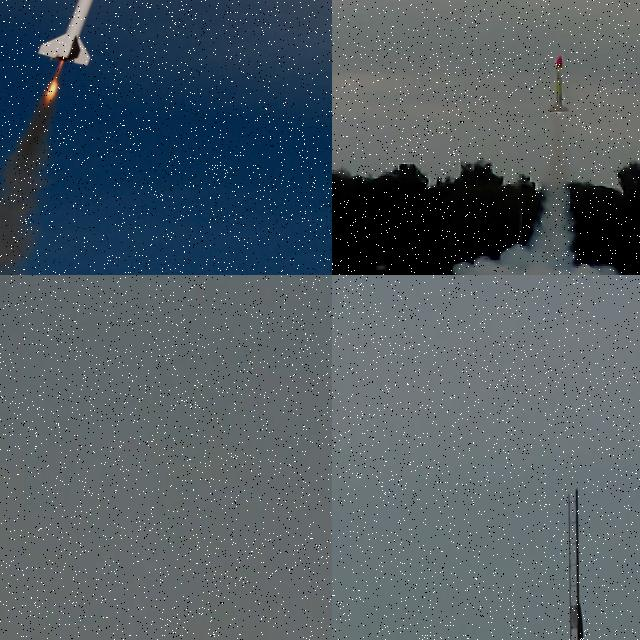Rocket: (37, 0, 140, 66), (547, 54, 570, 112)
